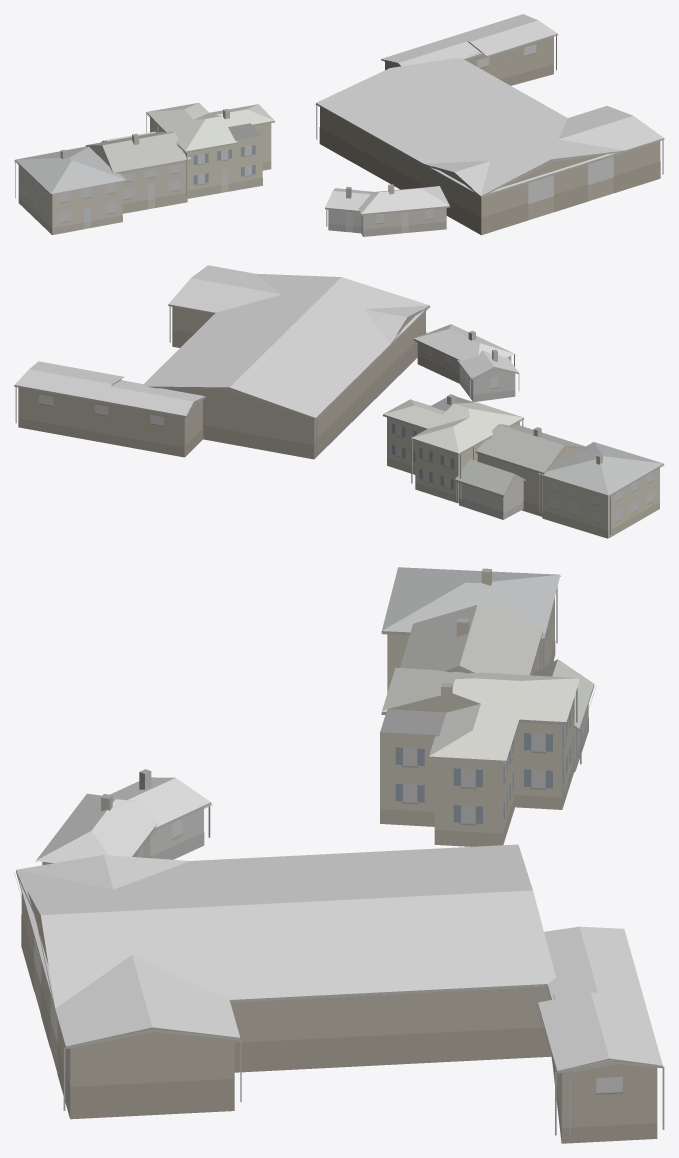
3 renders of one model, top to bottom at view 1: azimuth 30°, elevation 25°; view 2: azimuth 150°, elevation 25°; view 3: azimuth 270°, elevation 25°, orthographic. The views are drawn at different scales.
Visible parts, largest first — view 1: bld; view 2: bld; view 3: bld.
Boxes of the visible parts, x1=… form: bld: x1=14, y1=14, x2=664, y2=236; bld: x1=14, y1=265, x2=664, y2=538; bld: x1=14, y1=567, x2=664, y2=1143.
Bounding box in the file's own units: 79.79 × 10.27 × 44.38.
